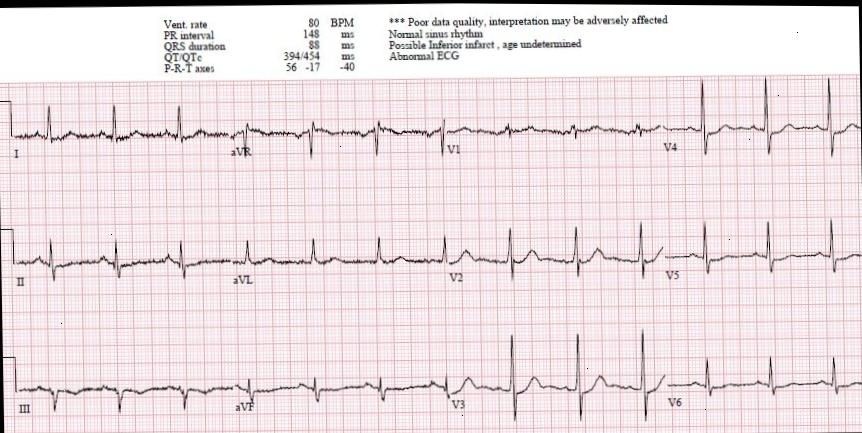Lead_I: (9, 97, 231, 174)
Lead_II: (10, 225, 234, 304)
Lead_III: (15, 357, 233, 431)
Lead_V1: (441, 104, 662, 163)
Lead_V2: (447, 216, 666, 291)
Lead_V3: (446, 320, 668, 425)
Lead_V4: (662, 72, 860, 173)
Lead_V5: (663, 207, 862, 288)
Lead_V6: (664, 344, 862, 418)
Lead_aVF: (233, 360, 452, 417)
Lead_aVL: (232, 222, 448, 293)
Lead_aVR: (230, 99, 441, 170)
